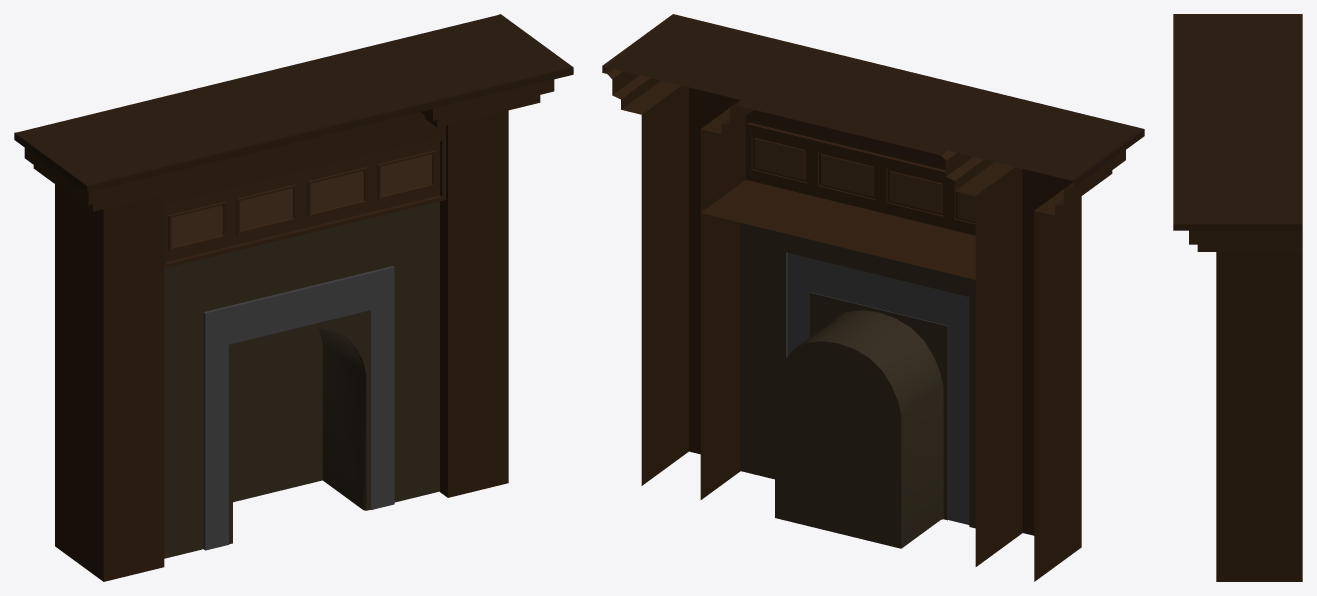
File: Lareira.fbx
The picture shows the model from 3 angles, left to right: view 1: azimuth 30°, elevation 25°; view 2: azimuth 150°, elevation 25°; view 3: azimuth 270°, elevation 25°; orthographic projection. The views are drawn at different scales.
Visible parts, largest first — view 1: SM_Lareira; view 2: SM_Lareira; view 3: SM_Lareira.
Boxes of the visible parts, box(x1,y1,x2,y2) form: SM_Lareira: box(14, 14, 573, 581); SM_Lareira: box(602, 14, 1144, 581); SM_Lareira: box(1173, 14, 1302, 581).
Bounding box in the file's own units: 240 × 200 × 62.55.
